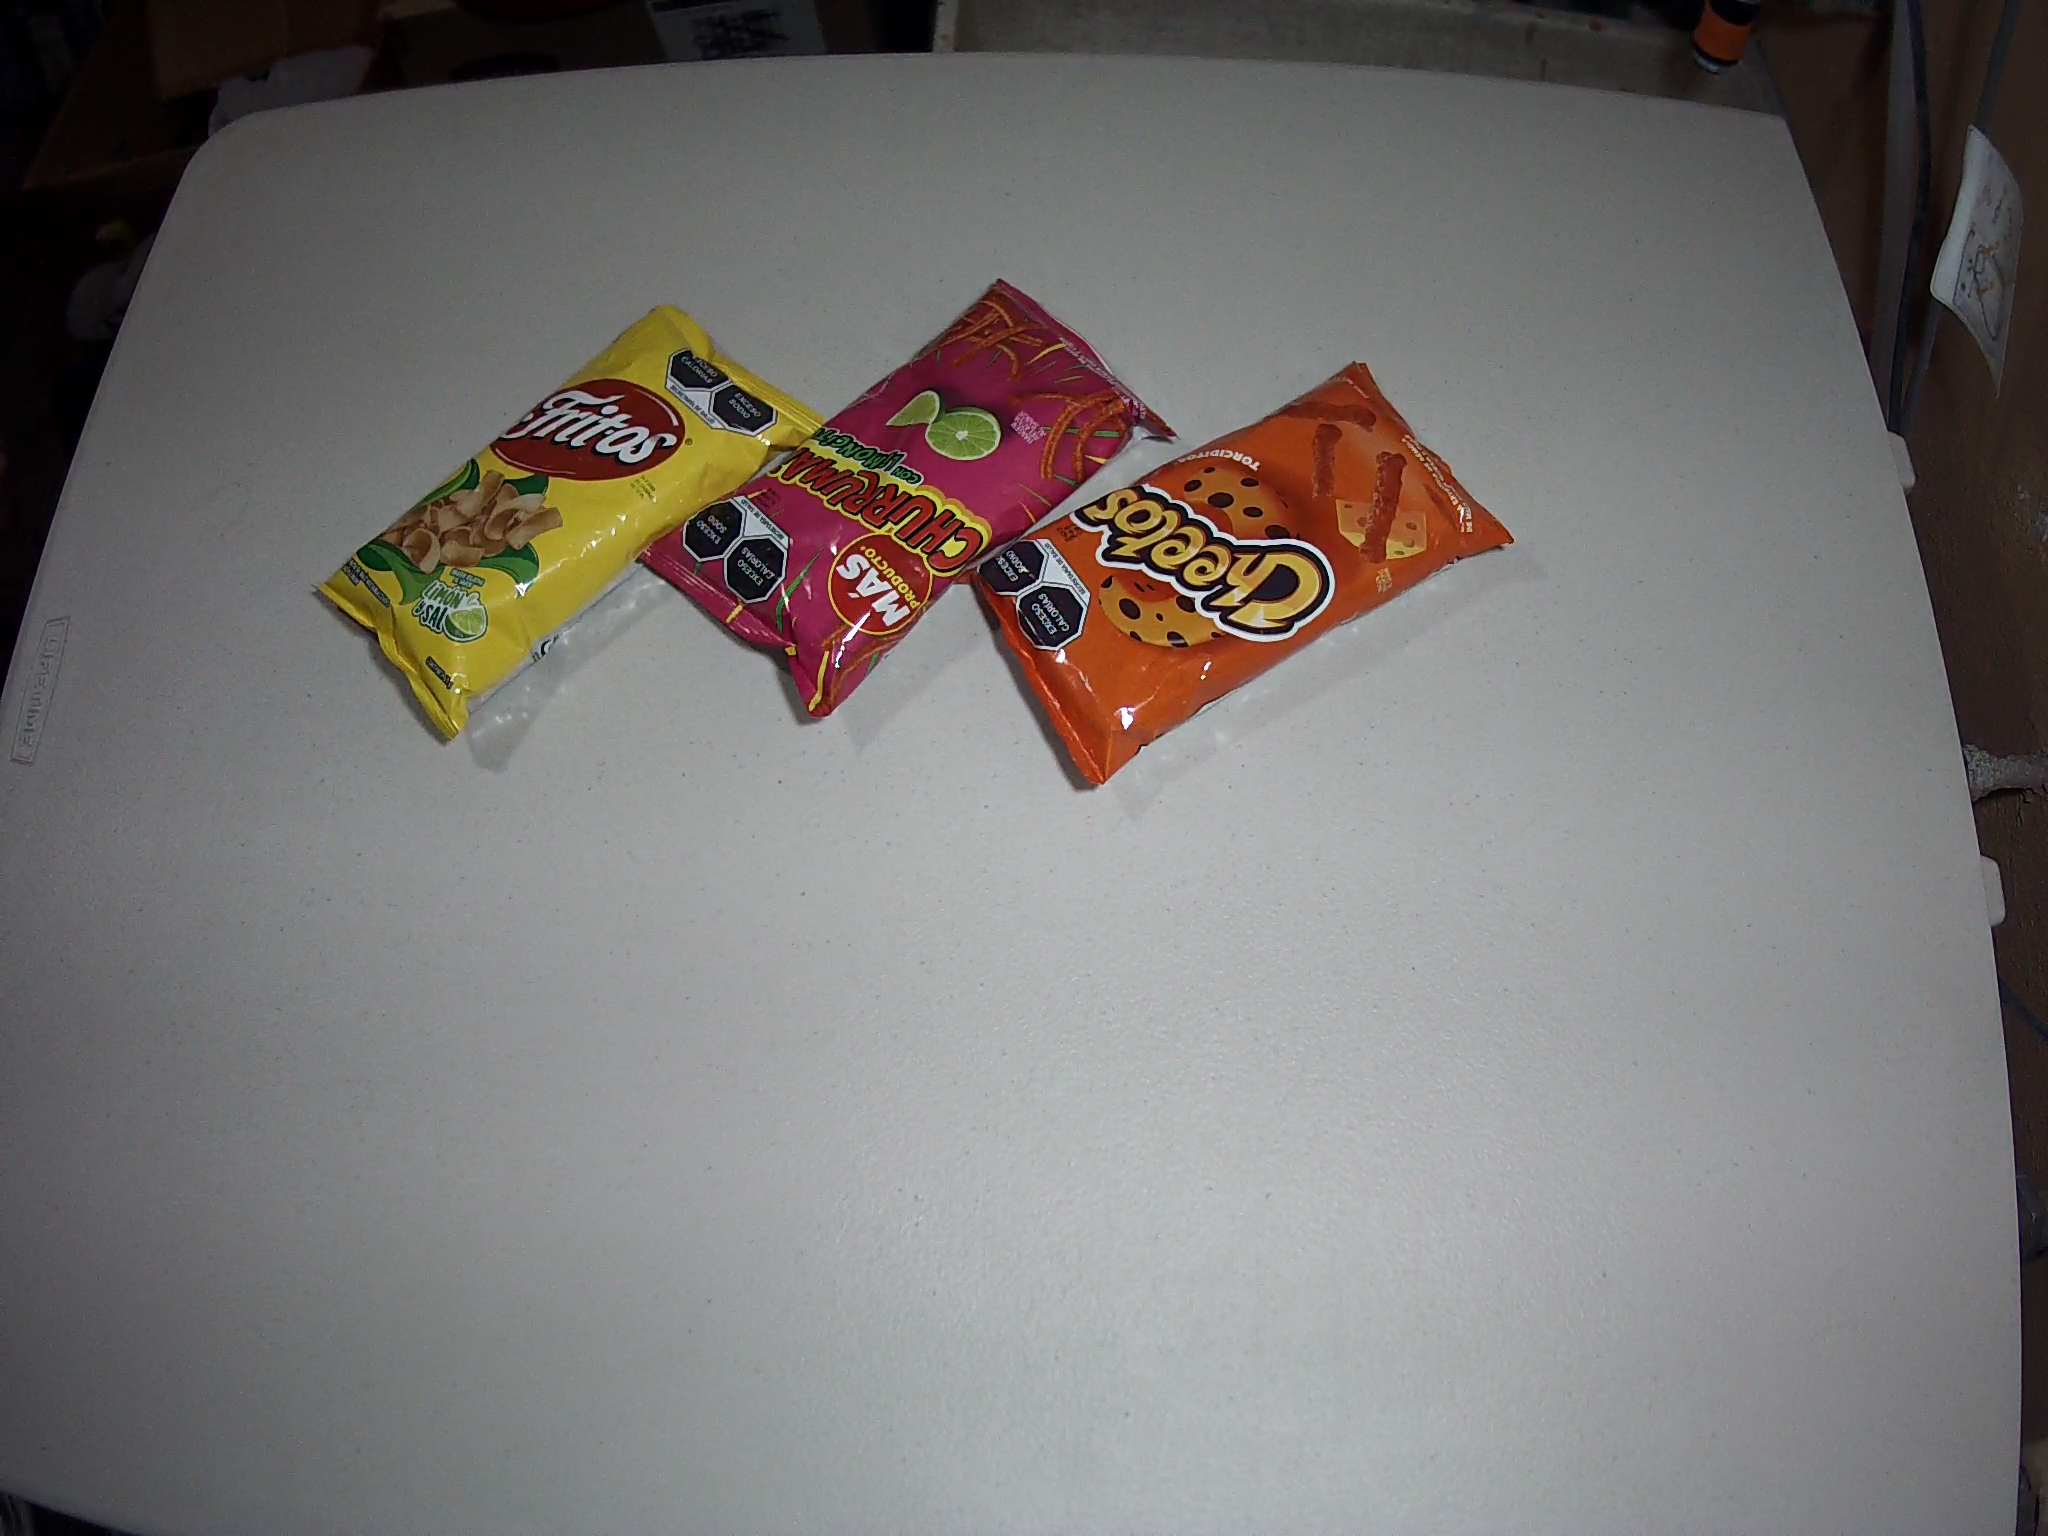CheetosTorciditos_55_F: (953, 363, 1514, 787)
Churrumais_70_F: (634, 274, 1177, 720)
FritosSalLimon_65_F: (310, 302, 827, 744)
